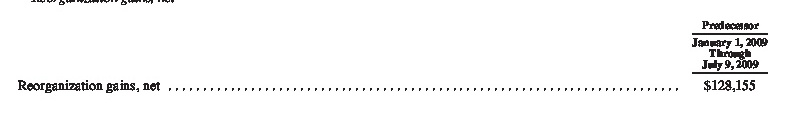table: (0, 0, 790, 115)
